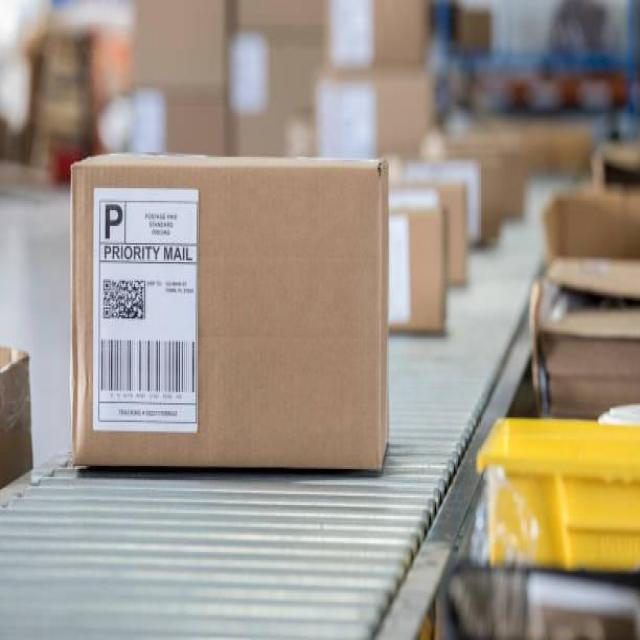box: (66, 137, 396, 476)
